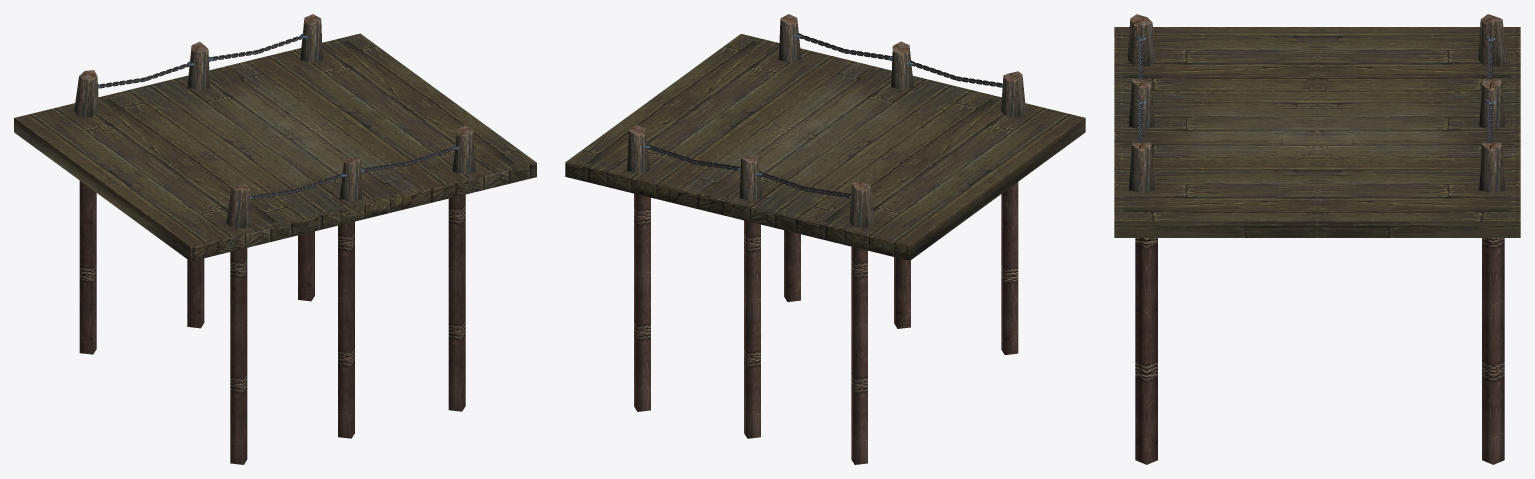
Rendered from hean_shuizhai_40.FBX.
3 views of the same model, side by side, from view 1: azimuth 30°, elevation 25°; view 2: azimuth 150°, elevation 25°; view 3: azimuth 270°, elevation 25° (orthographic). The views are drawn at different scales.
Parts seen in each view (by area): view 1: hean_shuizhai_40_01, hean_shuizhai_40_03, hean_shuizhai_40_02; view 2: hean_shuizhai_40_01, hean_shuizhai_40_02, hean_shuizhai_40_03; view 3: hean_shuizhai_40_01, hean_shuizhai_40_03, hean_shuizhai_40_02.
Part boxes in pixels (x1,y1,x2,y2): hean_shuizhai_40_01: (14,33,536,464); hean_shuizhai_40_03: (74,14,322,116); hean_shuizhai_40_02: (226,125,474,228); hean_shuizhai_40_01: (565,34,1085,464); hean_shuizhai_40_02: (779,14,1025,116); hean_shuizhai_40_03: (627,125,874,227); hean_shuizhai_40_01: (1114,27,1520,464); hean_shuizhai_40_03: (1478,14,1506,192); hean_shuizhai_40_02: (1127,14,1156,193).
Size of what is drawn, in the model's own units: 1375 by 1058 by 1214.
